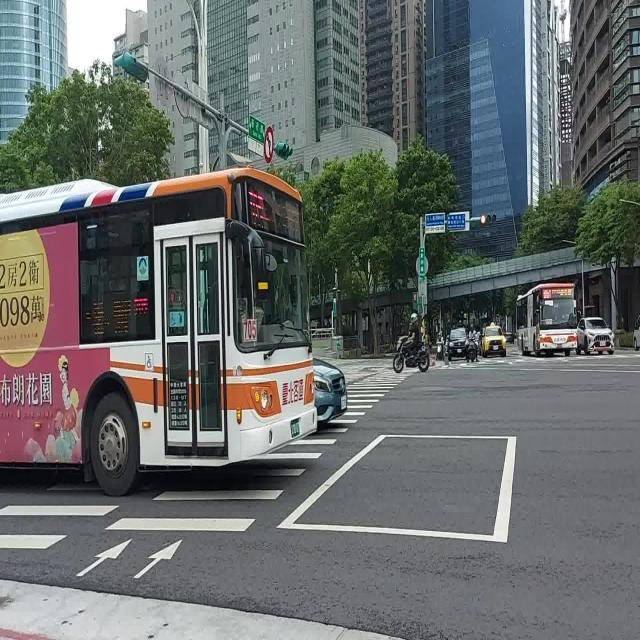bus: (0, 169, 316, 496), (516, 282, 579, 356)
car: (314, 358, 348, 421), (578, 316, 614, 356), (481, 324, 506, 358), (448, 327, 466, 360)
crosswalk: (100, 369, 417, 533), (0, 502, 122, 552), (343, 370, 379, 384)
motocycle: (392, 336, 430, 373), (466, 340, 478, 362), (436, 333, 444, 359)
